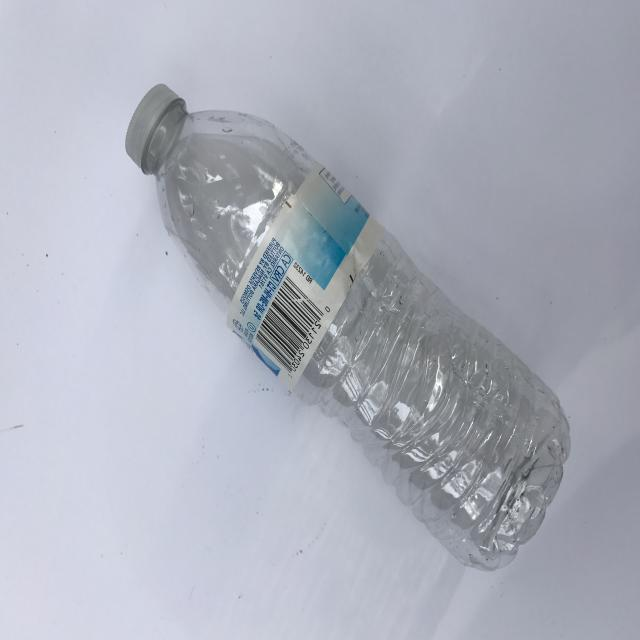plastic: (125, 82, 572, 572)
